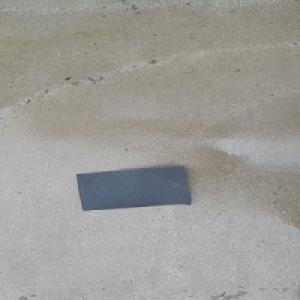PaintChip: (75, 164, 192, 210)
